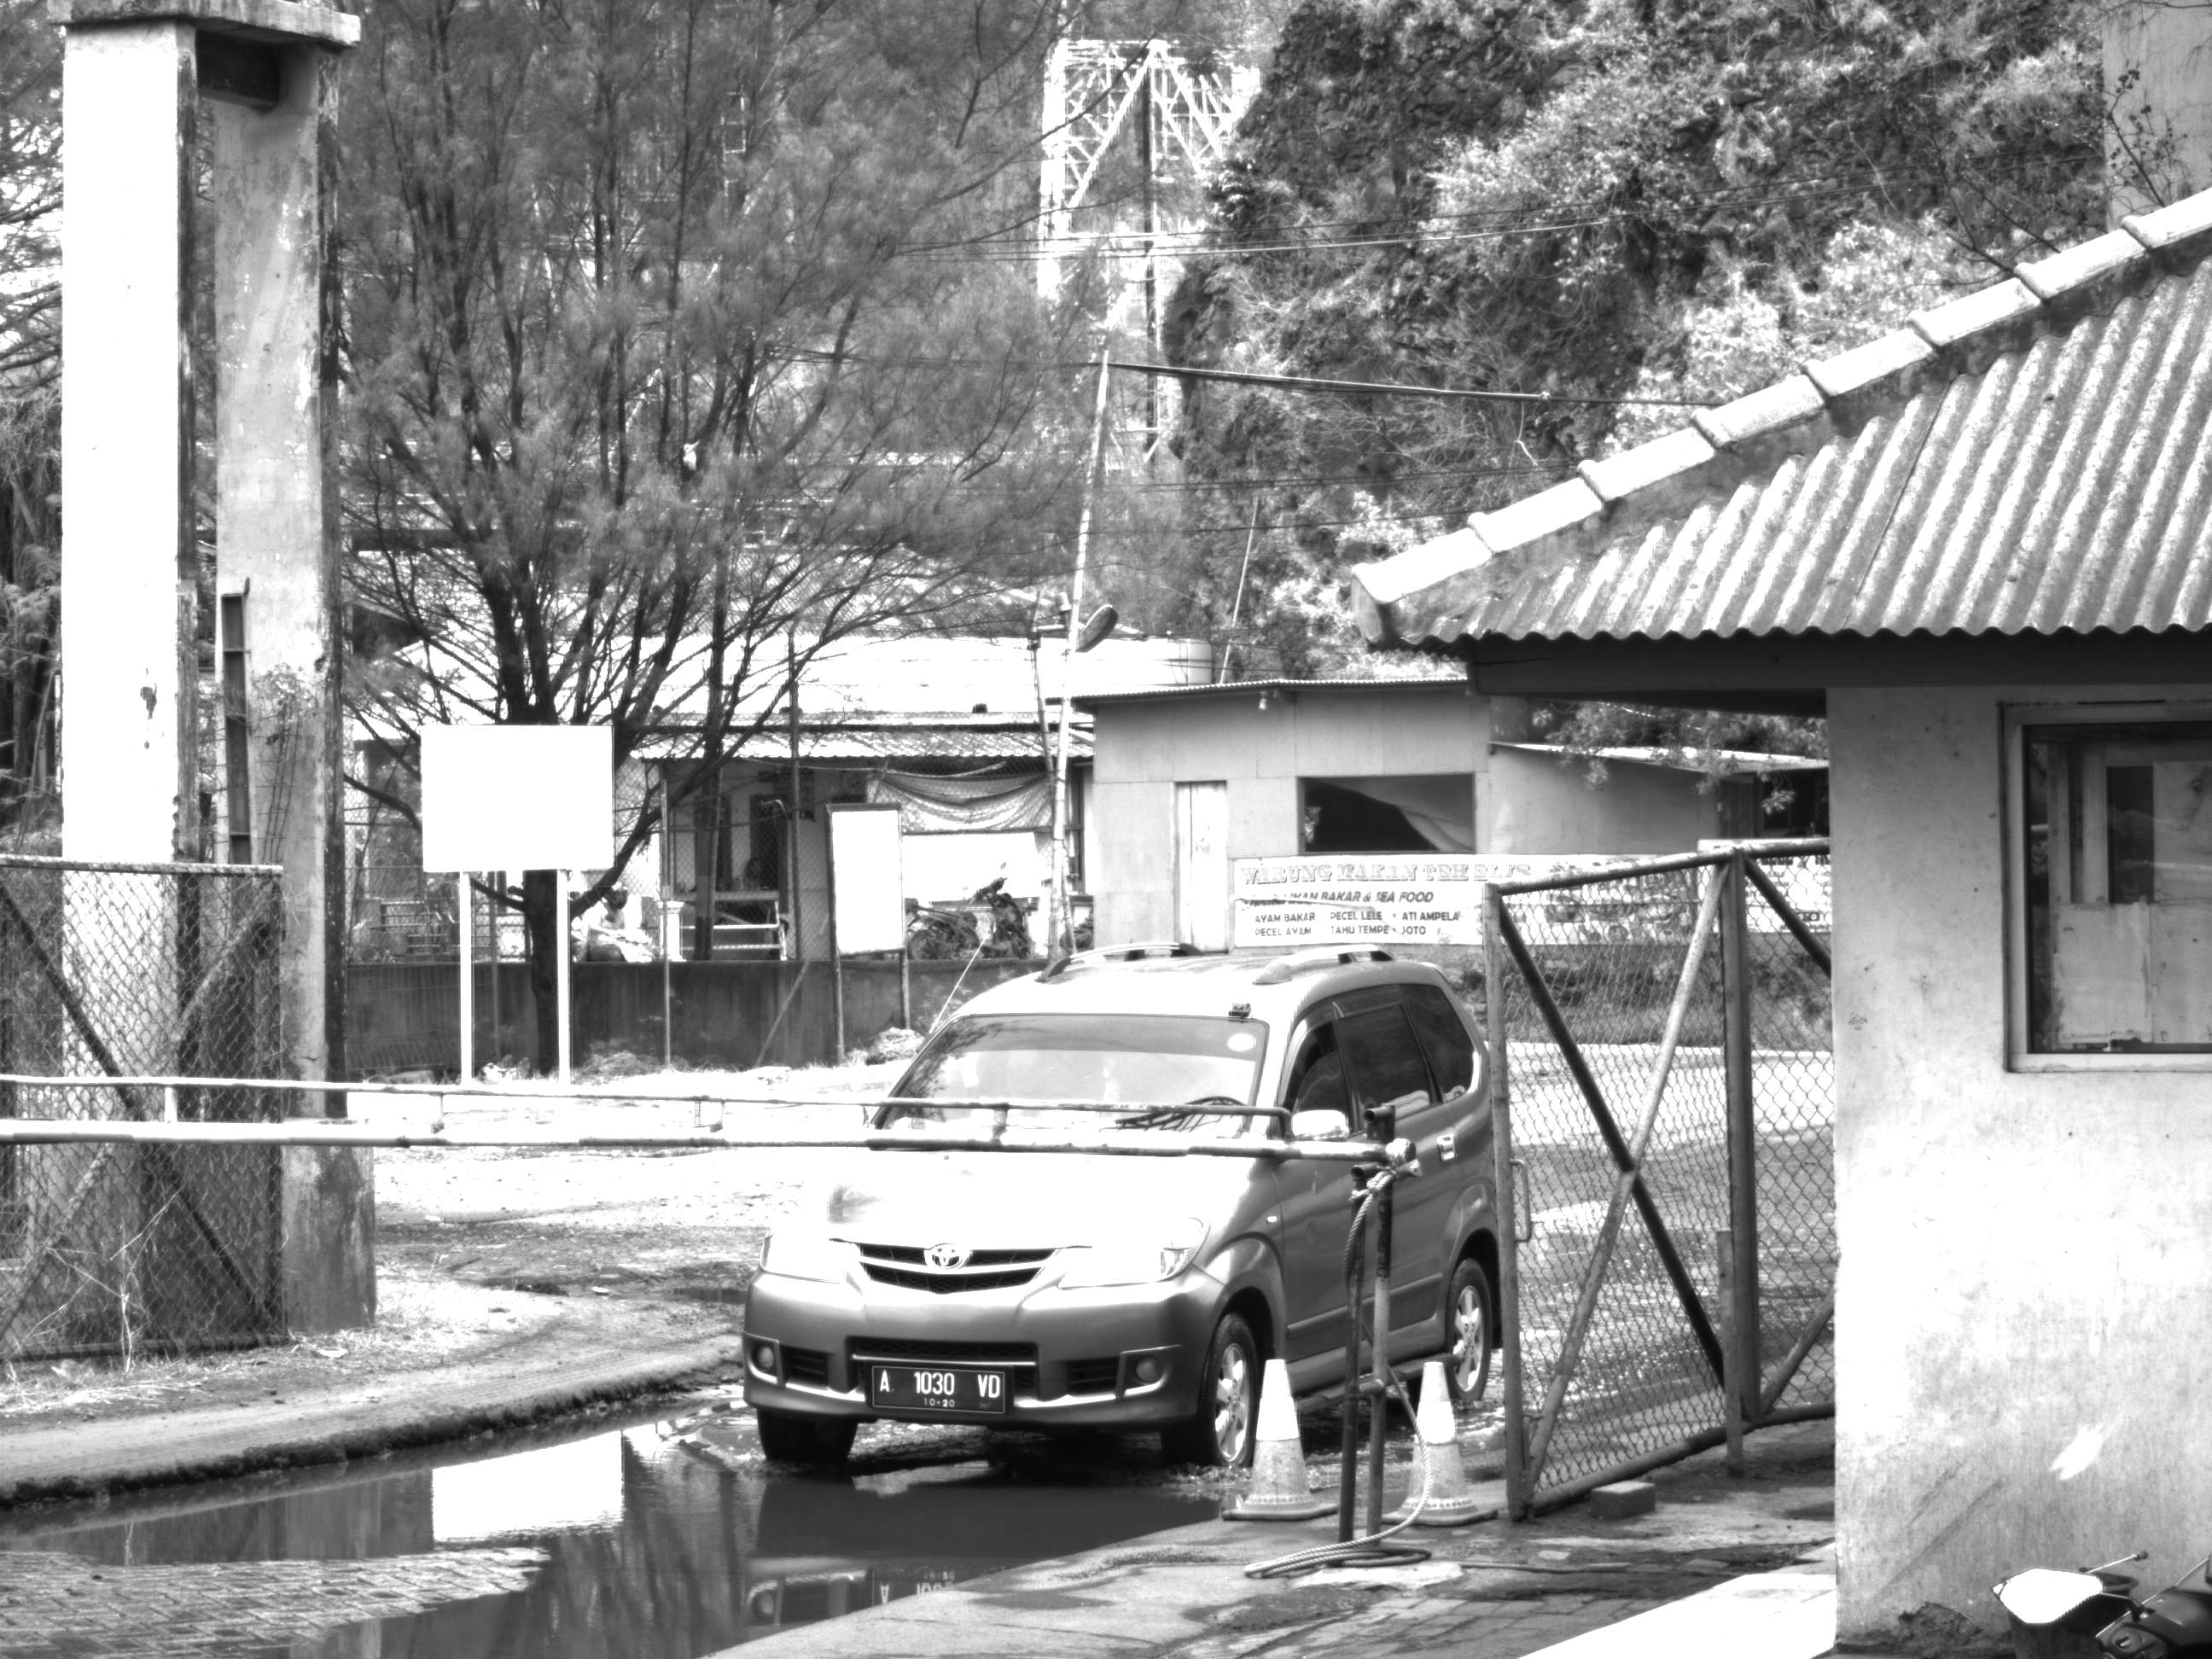day_small_front: (725, 939, 1325, 1469)
plate: (868, 1364, 1010, 1417)
